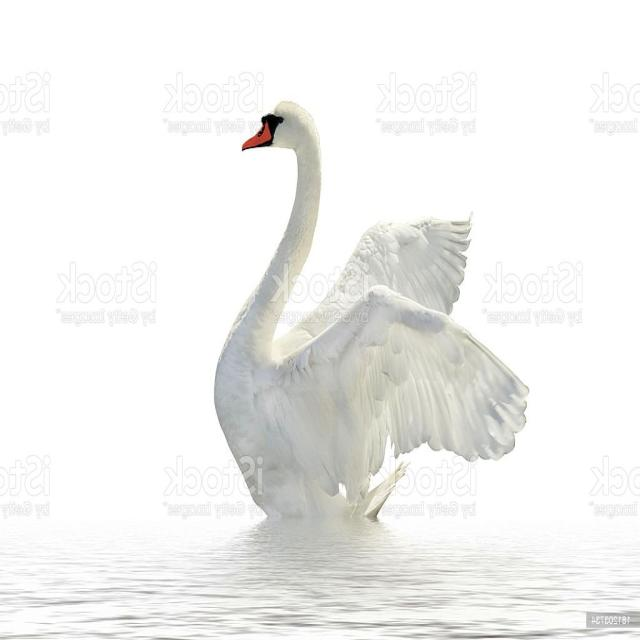swan: (215, 101, 529, 518)
